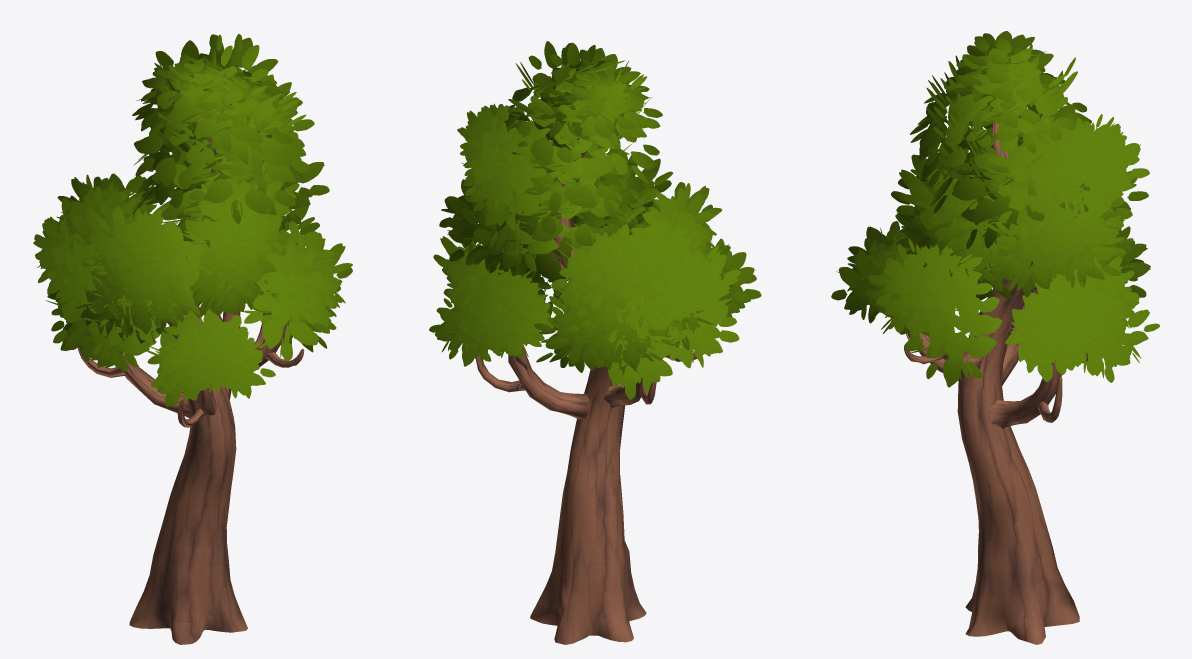
File: commontree_2.glb
3 views of the same model, side by side, from view 1: azimuth 30°, elevation 25°; view 2: azimuth 150°, elevation 25°; view 3: azimuth 270°, elevation 25° (orthographic). The views are drawn at different scales.
Visible parts, largest first — view 1: CommonTree_2; view 2: CommonTree_2; view 3: CommonTree_2.
Part boxes in pixels (<box>): CommonTree_2: <box>33,34,352,644</box>; CommonTree_2: <box>429,41,761,644</box>; CommonTree_2: <box>831,31,1159,644</box>.
Size of the model in its own units: 4.46 by 7.64 by 4.28.
2 materials, 2 textured.
